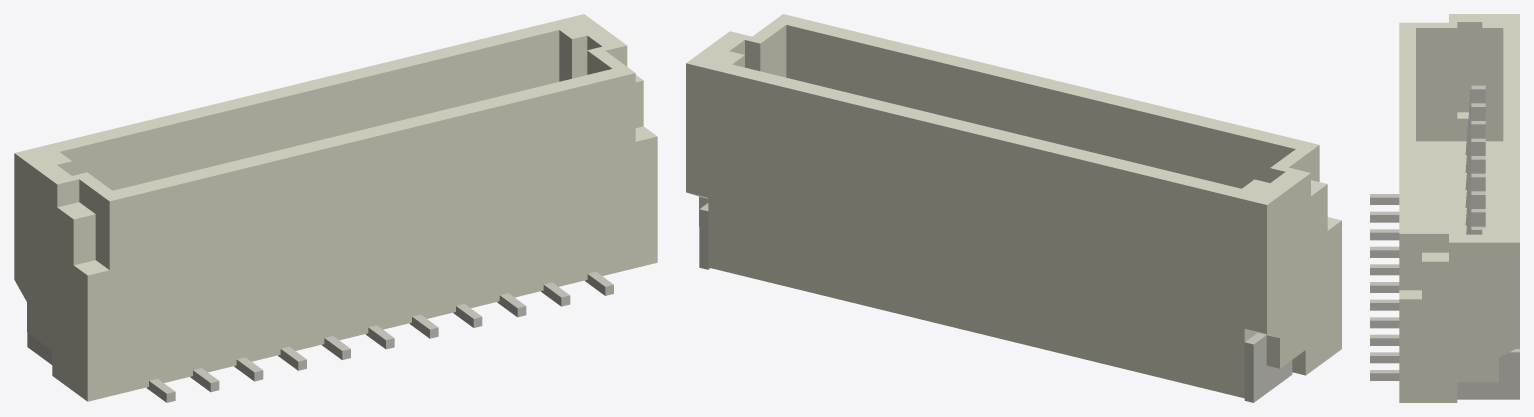
The model's file is kc-jst_sh_bm11b-srss-tb_1x11-1mp_p1.00mm_vertical.glb.
3 renders of one model, left to right at view 1: azimuth 30°, elevation 25°; view 2: azimuth 150°, elevation 25°; view 3: azimuth 270°, elevation 25°, orthographic. The views are drawn at different scales.
Visible parts, largest first — view 1: 0.75_0.75_0.6666666666666666_0, 0.6666666666666666_0.6666666666666666_0.5833333333333334_0.8; view 2: 0.75_0.75_0.6666666666666666_0, 0.6666666666666666_0.6666666666666666_0.5833333333333334_0.8; view 3: 0.75_0.75_0.6666666666666666_0, 0.6666666666666666_0.6666666666666666_0.5833333333333334_0.8.
Boxes of the visible parts, left/top/right/bottom form: 0.75_0.75_0.6666666666666666_0: left=14, top=14, right=657, bottom=401; 0.6666666666666666_0.6666666666666666_0.5833333333333334_0.8: left=27, top=272, right=613, bottom=402; 0.75_0.75_0.6666666666666666_0: left=686, top=14, right=1341, bottom=398; 0.6666666666666666_0.6666666666666666_0.5833333333333334_0.8: left=699, top=203, right=1292, bottom=402; 0.75_0.75_0.6666666666666666_0: left=1399, top=14, right=1519, bottom=402; 0.6666666666666666_0.6666666666666666_0.5833333333333334_0.8: left=1370, top=85, right=1519, bottom=399.
Size of the model in its own units: 1.3 by 0.432 by 0.36.
